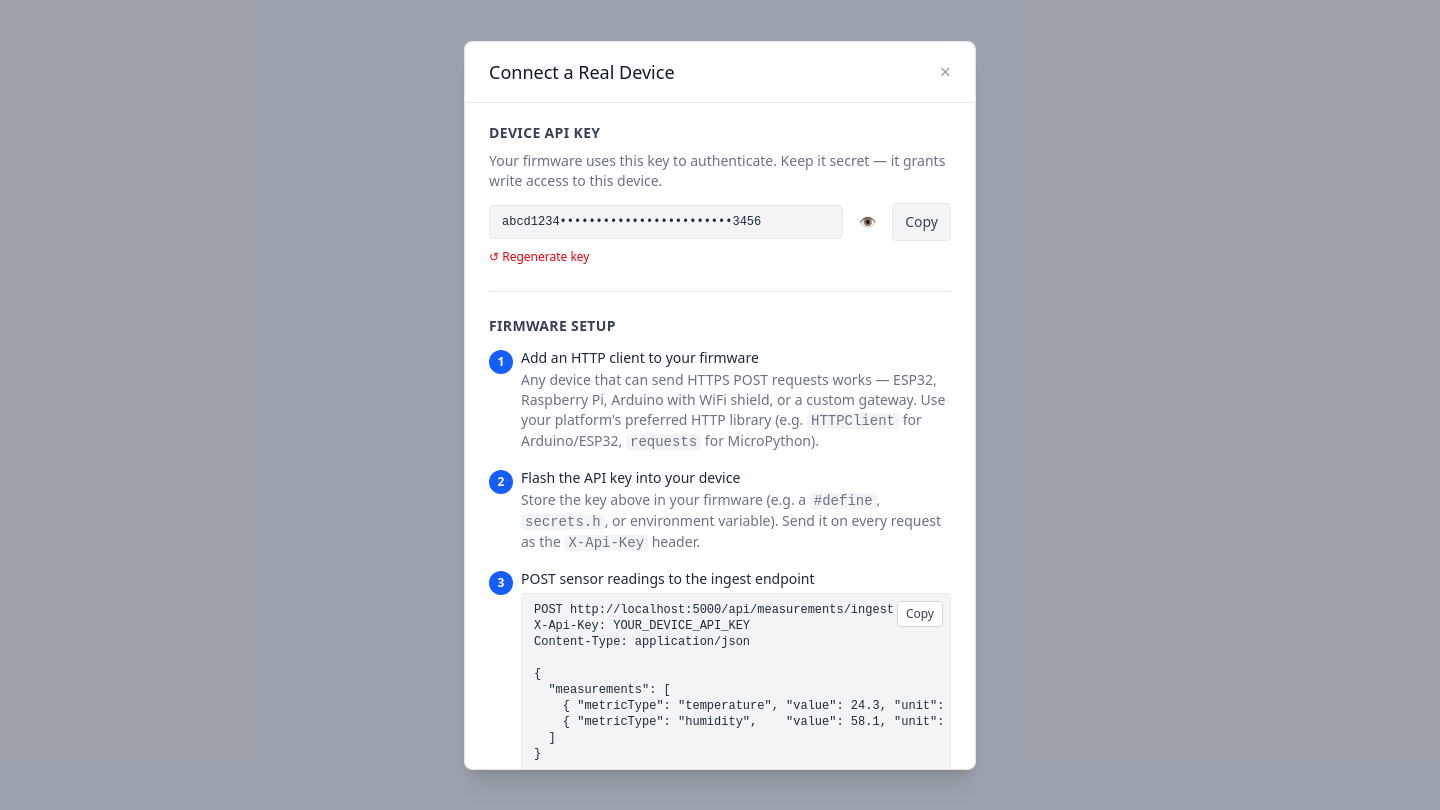
Test: ConnectDeviceModal › reveals the API key when the show button is clicked
Click the button titled "Show key": click(868, 222) left=851, top=204, right=884, bottom=240
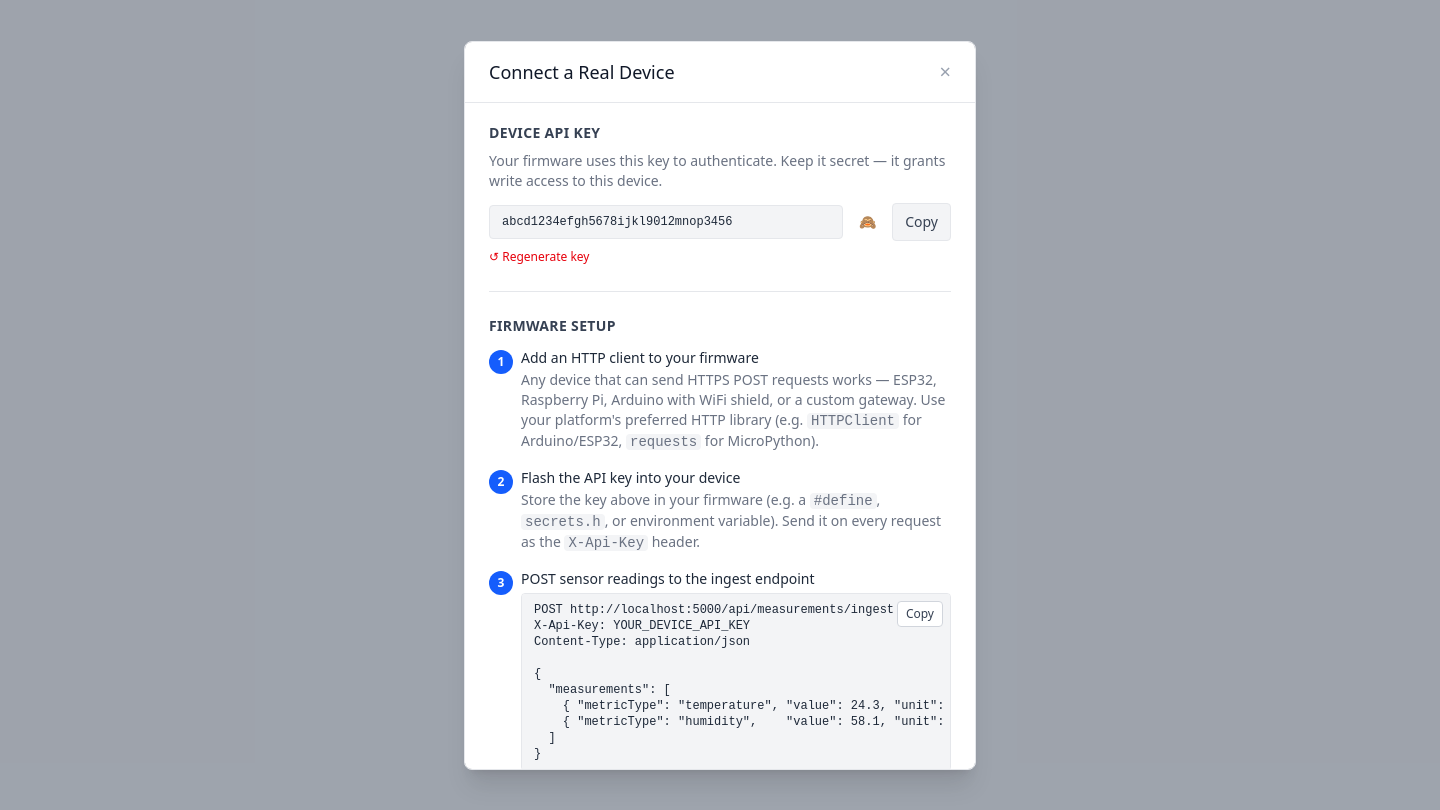
Check: the text "abcd1234efgh5678ijkl9012mnop3456" is shown, box left=489, top=204, right=843, bottom=238
